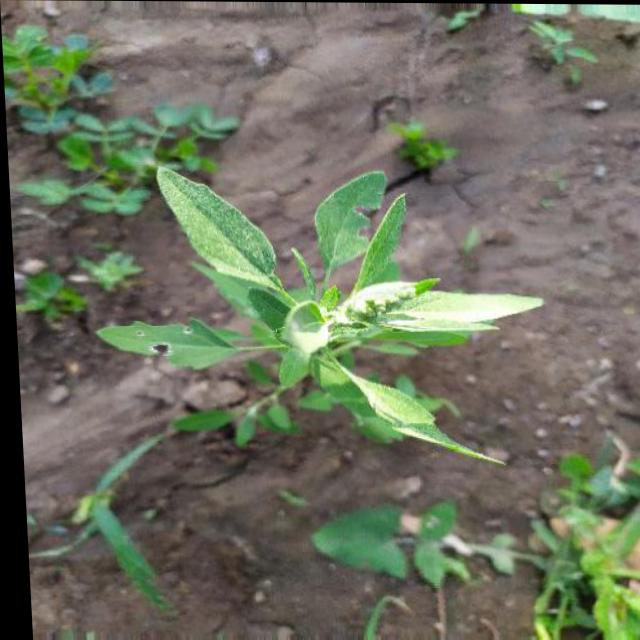weed: (77, 133, 561, 593)
